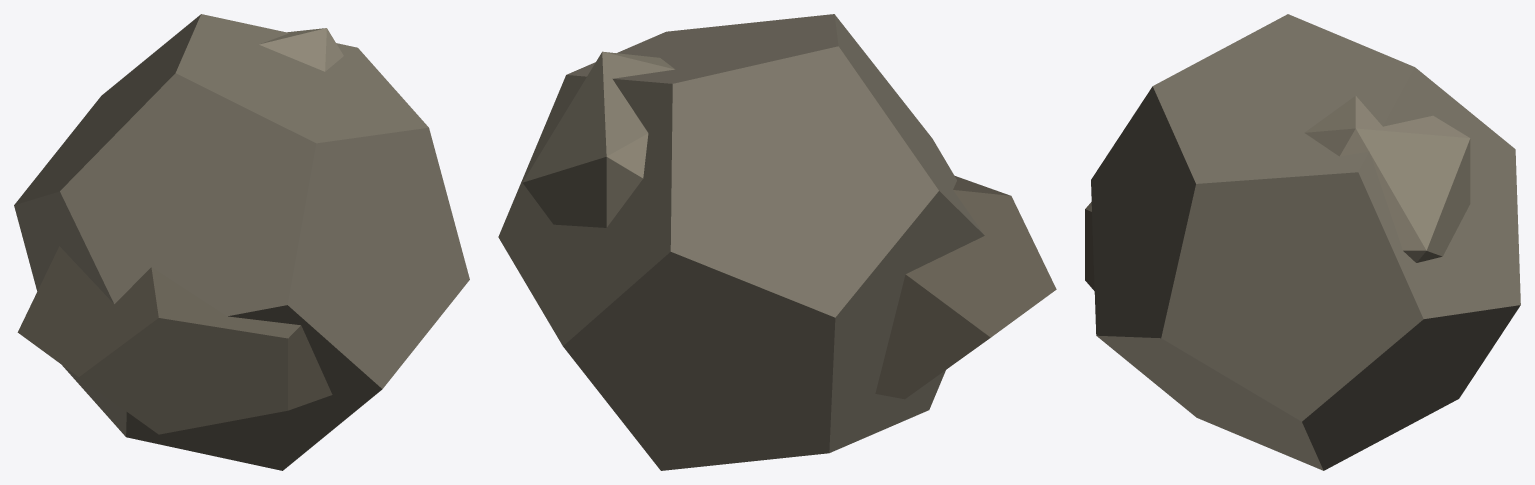
File: rock-1.glb
3 renders of one model, left to right at view 1: azimuth 30°, elevation 25°; view 2: azimuth 150°, elevation 25°; view 3: azimuth 270°, elevation 25°, orthographic. The views are drawn at different scales.
Parts seen in each view (by area): view 1: rock-1; view 2: rock-1; view 3: rock-1.
Part boxes in pixels (box(x1,y1,x2,y2)): rock-1: box(14, 14, 469, 470); rock-1: box(498, 14, 1056, 470); rock-1: box(1085, 14, 1520, 470).
Bounding box in the file's own units: 1.85 × 1.7 × 1.75.
